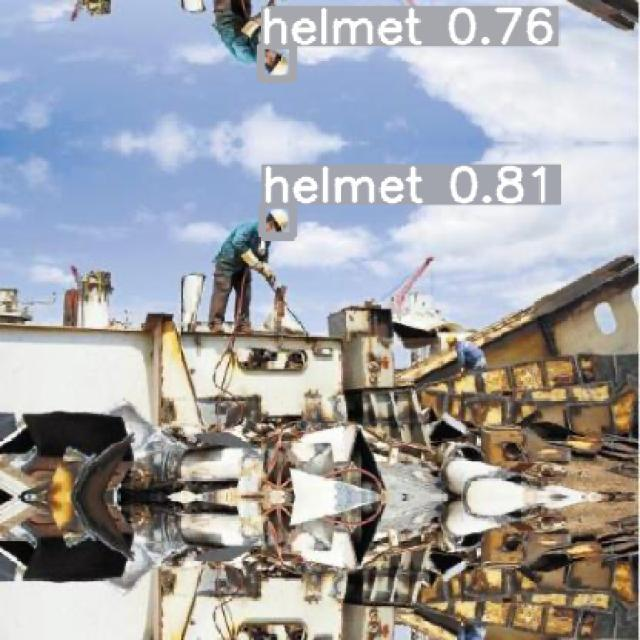white helmet: (267, 203, 293, 236)
